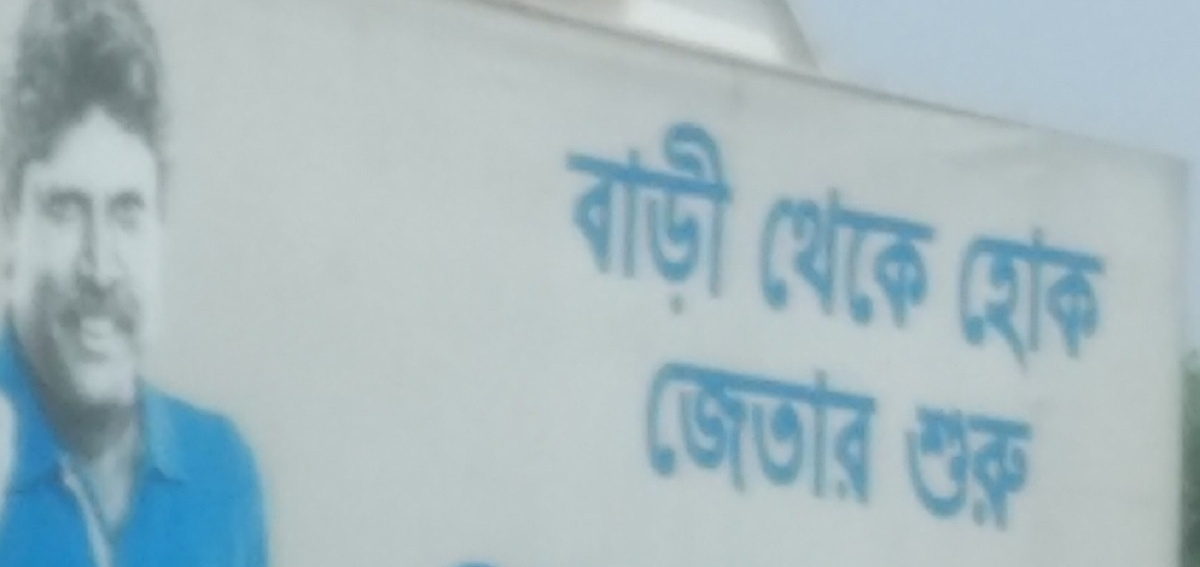text: (561, 97, 576, 335), (577, 97, 592, 335), (593, 97, 608, 335), (609, 97, 624, 335), (625, 97, 640, 335), (641, 97, 656, 335), (657, 97, 672, 335), (673, 97, 688, 335), (689, 97, 704, 335), (705, 97, 720, 335), (721, 97, 736, 335), (737, 97, 752, 335), (657, 341, 672, 530), (673, 341, 688, 530), (689, 341, 704, 530), (705, 341, 720, 530), (721, 341, 736, 530), (737, 341, 752, 530), (753, 341, 768, 530), (769, 341, 784, 530), (785, 341, 800, 530), (801, 341, 816, 530), (817, 341, 832, 530), (833, 341, 848, 530), (849, 341, 864, 530), (865, 341, 880, 530), (785, 174, 800, 349), (801, 174, 816, 349), (817, 174, 832, 349), (833, 174, 848, 349), (849, 174, 864, 349), (865, 174, 880, 349), (881, 174, 896, 349), (897, 174, 912, 349), (913, 174, 928, 349), (929, 174, 944, 349), (977, 214, 992, 379), (993, 214, 1008, 379), (1009, 214, 1024, 379), (1025, 214, 1040, 379), (1041, 214, 1056, 379), (1057, 214, 1072, 379), (1073, 214, 1088, 379), (1089, 214, 1104, 379), (913, 394, 928, 540), (929, 394, 944, 540), (945, 394, 960, 540), (961, 394, 976, 540), (977, 394, 992, 540), (993, 394, 1008, 540), (1009, 394, 1024, 540), (1025, 394, 1040, 540), (773, 174, 784, 349), (881, 341, 891, 530), (900, 394, 912, 540), (1105, 214, 1112, 379), (650, 341, 656, 530), (970, 214, 976, 379), (753, 97, 755, 335), (945, 174, 947, 349), (1041, 394, 1042, 540)
